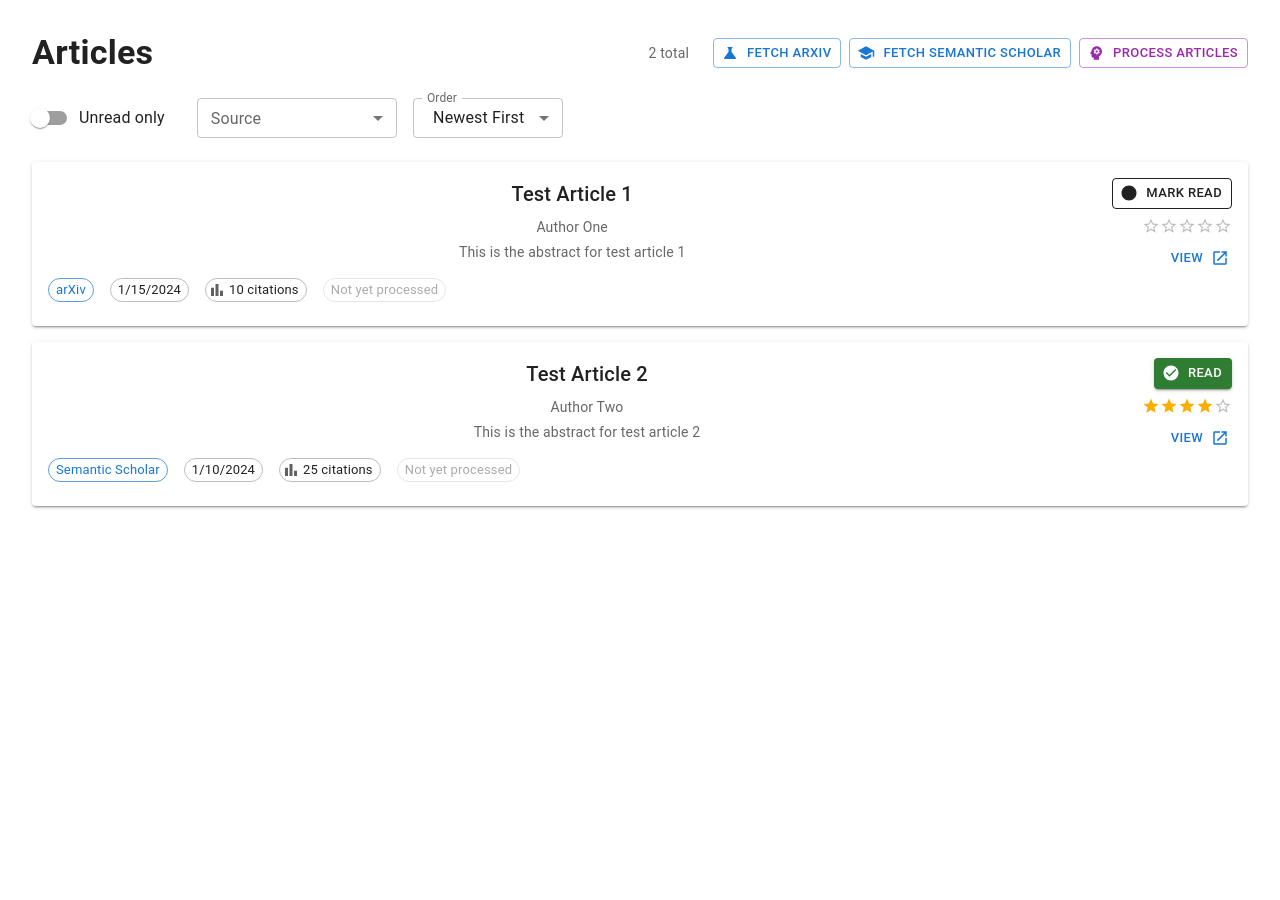
Test case: Articles › opens arXiv fetch dialog
Click the button "Fetch arXiv": (777,53) x1=713 y1=38 x2=842 y2=68
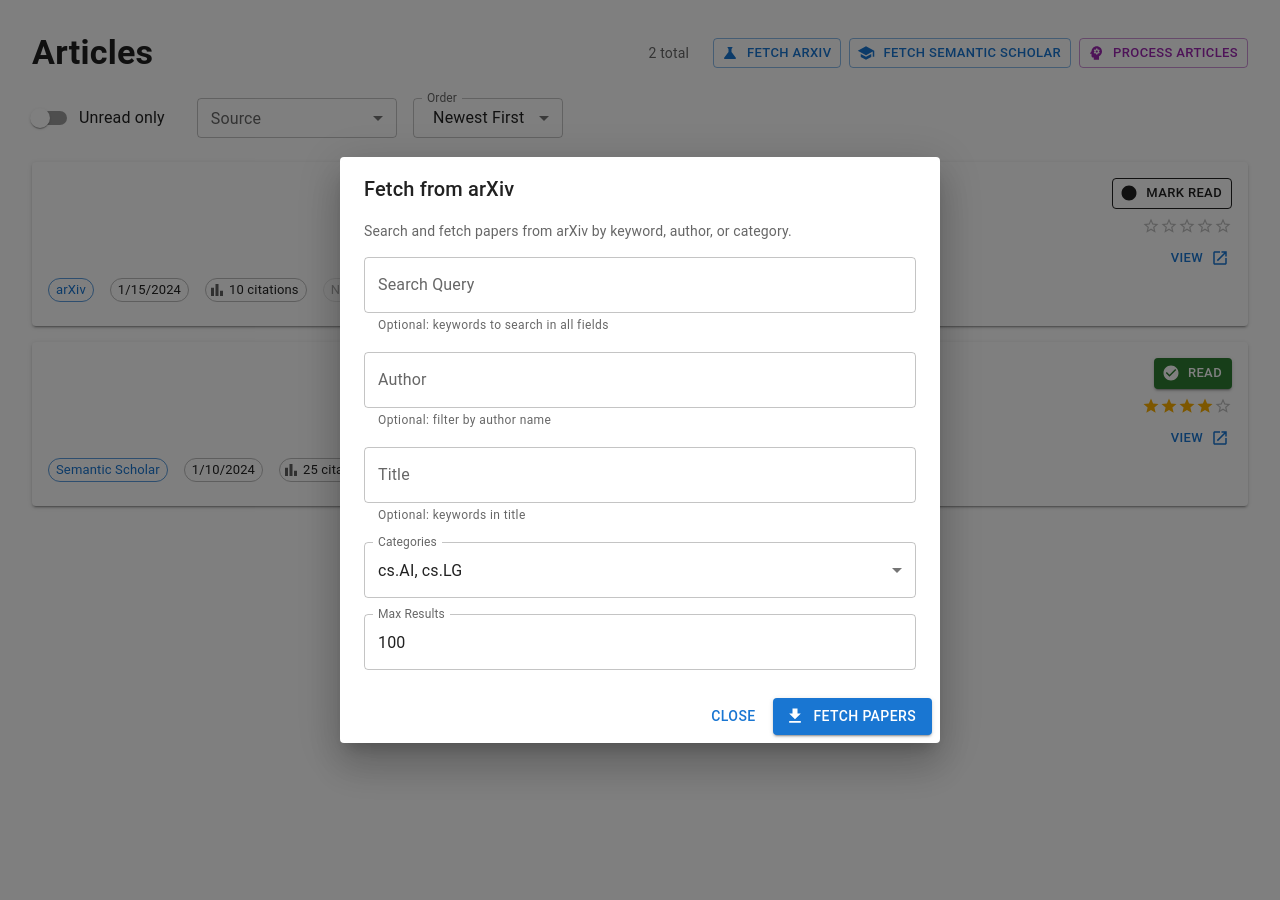
Expected: the heading "Fetch from arXiv" is shown, x1=364 y1=177 x2=514 y2=201
Expected: the field labelled "Search Query" is shown, x1=364 y1=257 x2=916 y2=313
